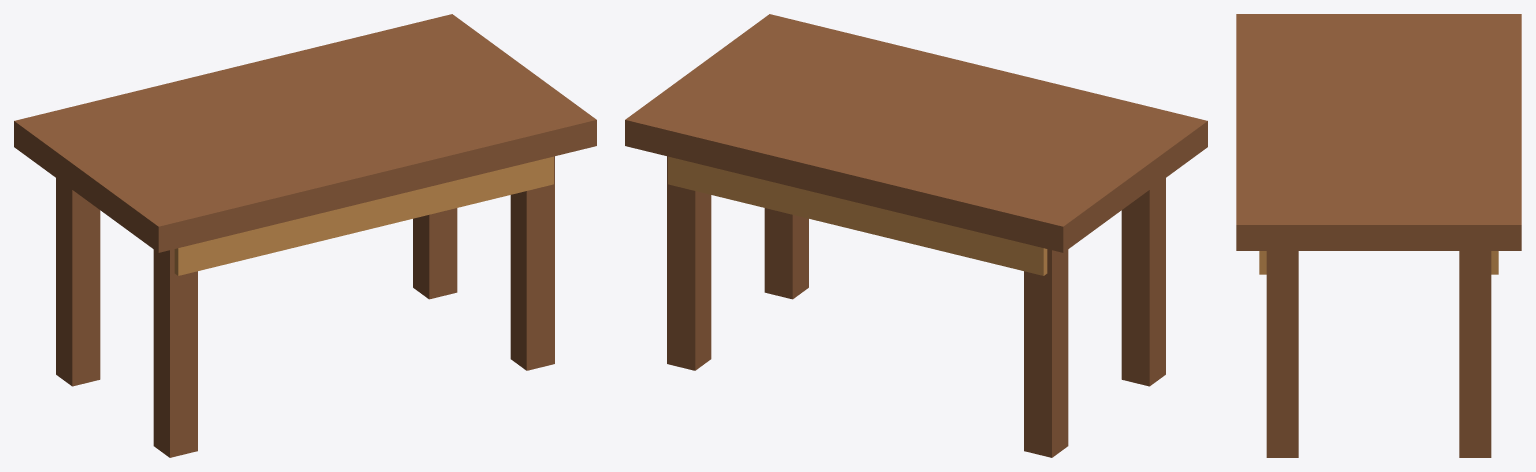
Rendered from table.gltf.
The picture shows the model from 3 angles, left to right: view 1: azimuth 30°, elevation 25°; view 2: azimuth 150°, elevation 25°; view 3: azimuth 270°, elevation 25°; orthographic projection.
Parts seen in each view (by area): view 1: Table; view 2: Table; view 3: Table.
Part boxes in pixels (x1,y1,x2,y2): Table: [14, 14, 596, 457]; Table: [625, 14, 1207, 457]; Table: [1236, 14, 1521, 457].
Bounding box in the file's own units: 1.4 × 0.76 × 0.8.
